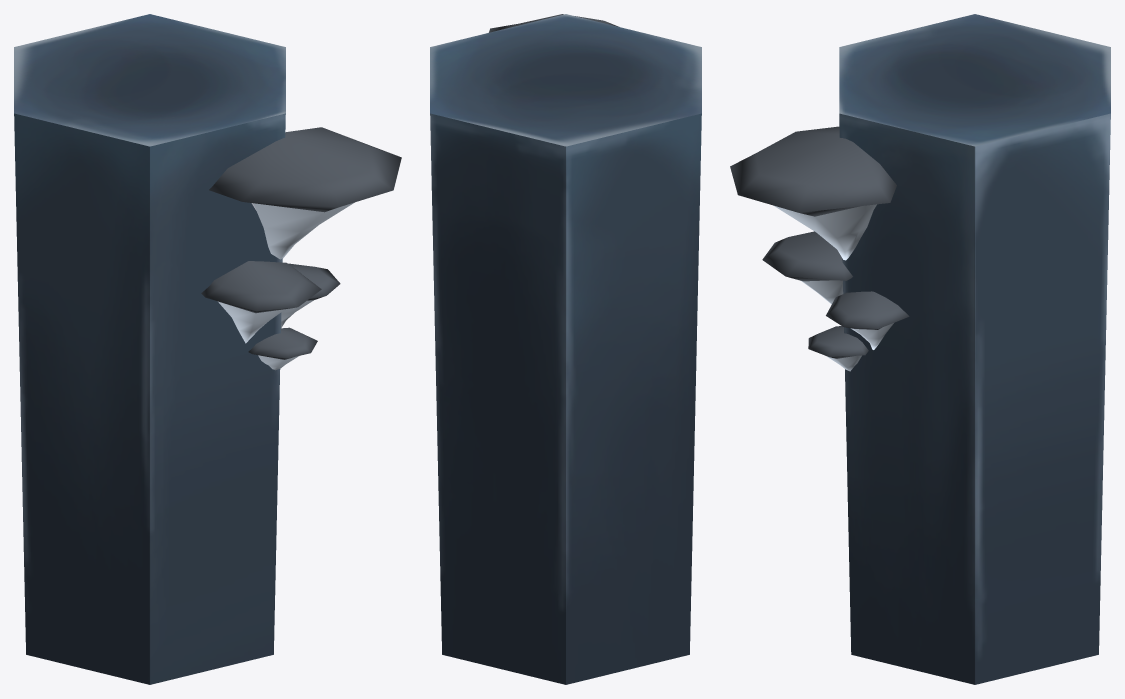
Rendered from HexCave_PillarMushroom.fbx.
The picture shows the model from 3 angles, left to right: view 1: azimuth 30°, elevation 25°; view 2: azimuth 150°, elevation 25°; view 3: azimuth 270°, elevation 25°; orthographic projection.
Parts seen in each view (by area): view 1: HexCave_PillarMushroom; view 2: HexCave_PillarMushroom; view 3: HexCave_PillarMushroom.
Part boxes in pixels (box(x1,y1,x2,y2)): HexCave_PillarMushroom: box(14, 14, 401, 684); HexCave_PillarMushroom: box(430, 14, 701, 684); HexCave_PillarMushroom: box(730, 14, 1110, 684).
Size of the model in its own units: 193 by 335 by 213.
